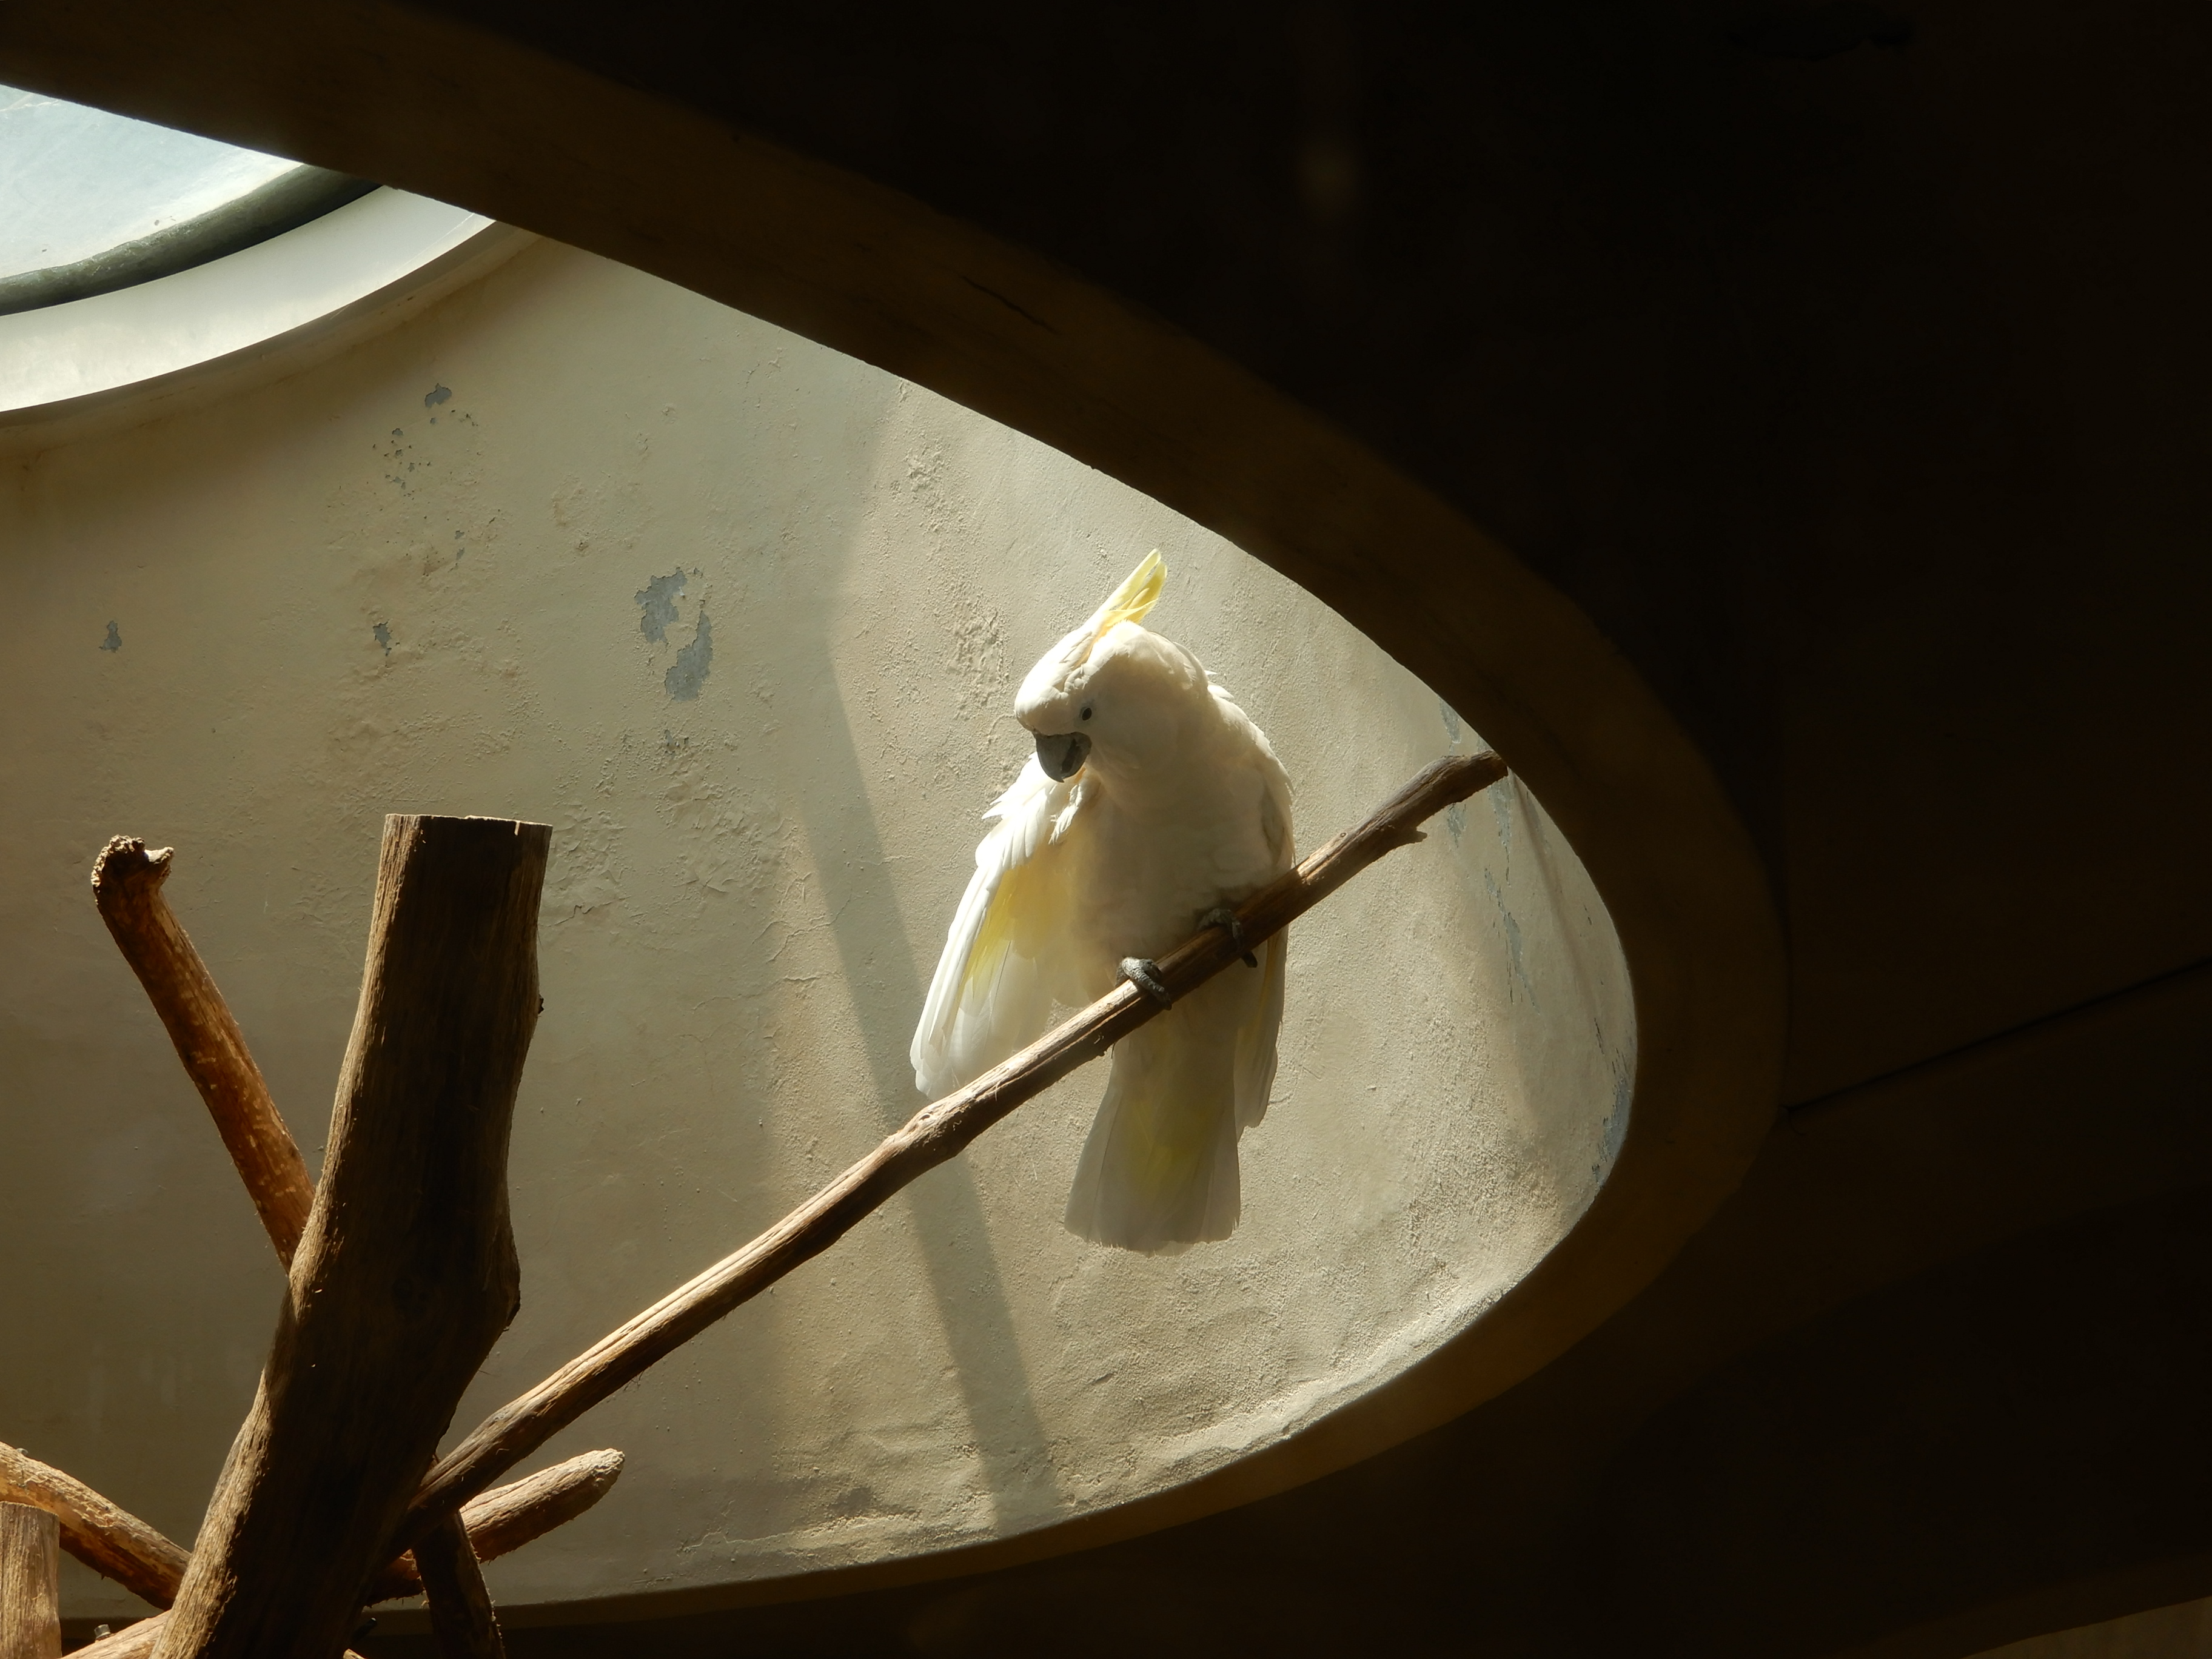Cacatua galerita: (900, 545, 1308, 1258)
